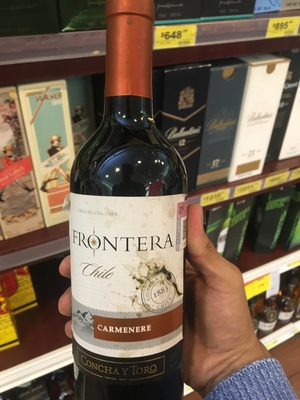frontera carmenere: (67, 28, 201, 400)
